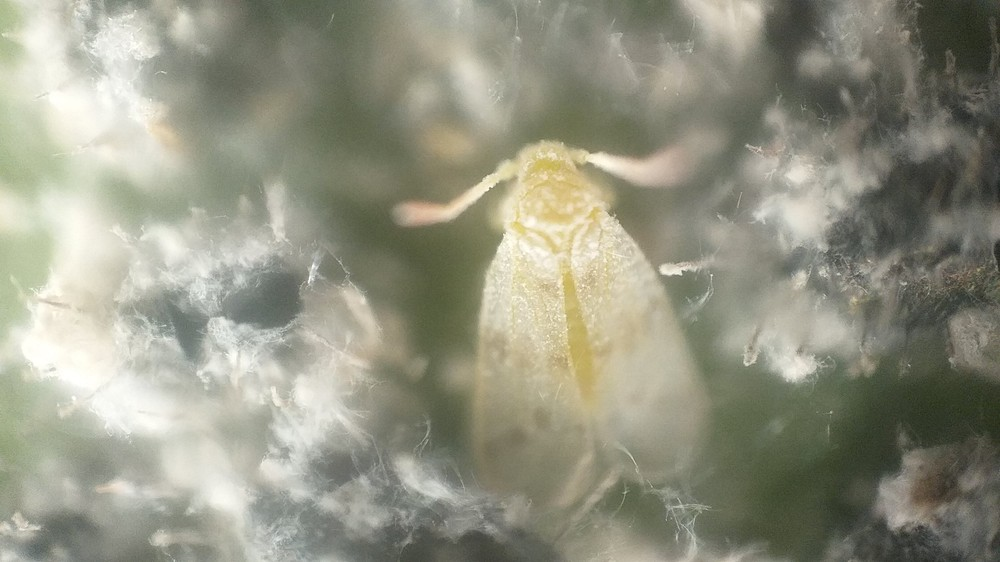Mosca Blanca: (386, 119, 781, 513)
